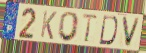2: (18, 7, 38, 41)
D: (98, 15, 119, 47)
K: (39, 9, 58, 41)
O: (56, 12, 81, 43)
T: (81, 14, 99, 44)
V: (121, 16, 142, 49)
